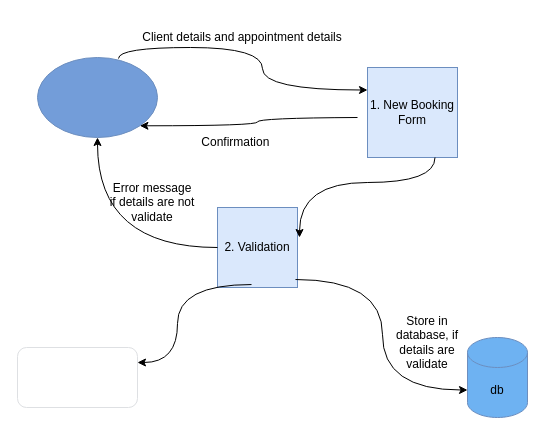
This 545x435 diagram has some shape labels left out. The centre of each missing label's shape, as x and y in pixels:
Confirmation message on screen: the point at 77,377
user: the point at 97,97
